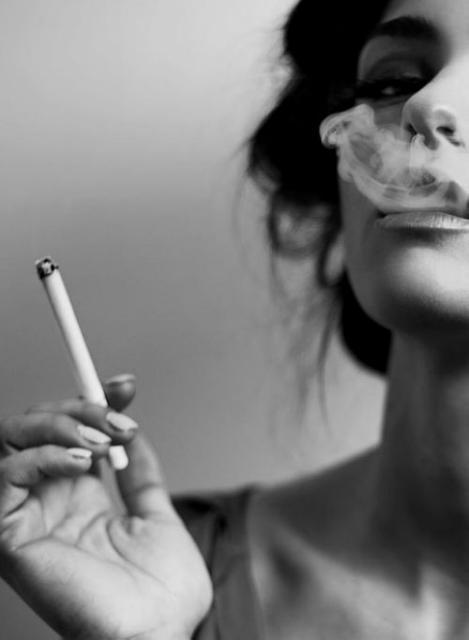Smoking: (28, 252, 130, 478)
